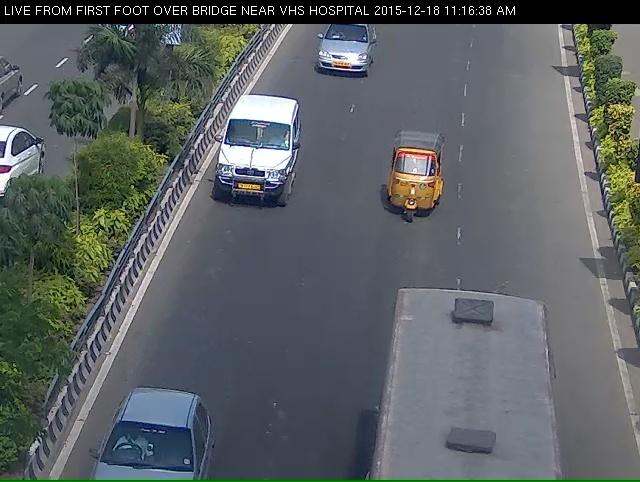Bus: (374, 304, 562, 480)
Car: (212, 99, 292, 220), (84, 407, 215, 480), (387, 130, 449, 229), (309, 24, 371, 81)
